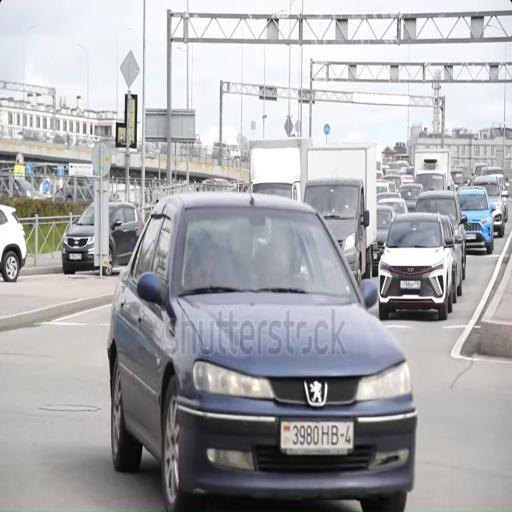License plates: (280, 421, 353, 455), (401, 281, 420, 289), (69, 253, 82, 260), (467, 234, 476, 239), (374, 254, 377, 260)
